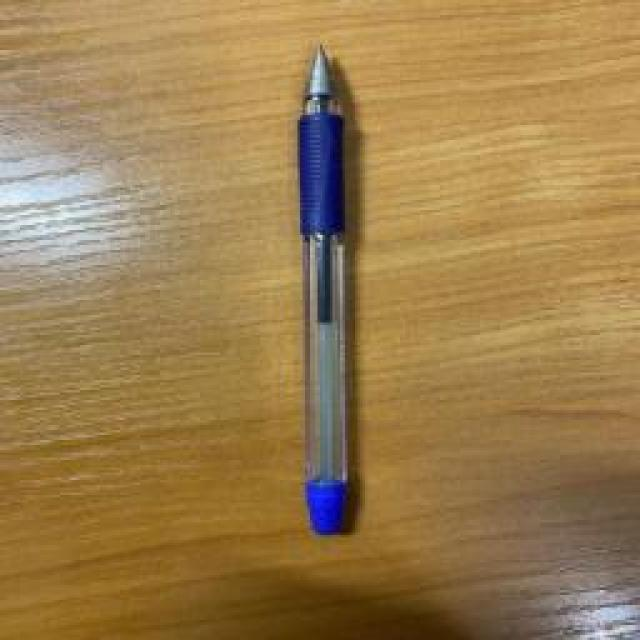pen: (295, 42, 355, 538)
